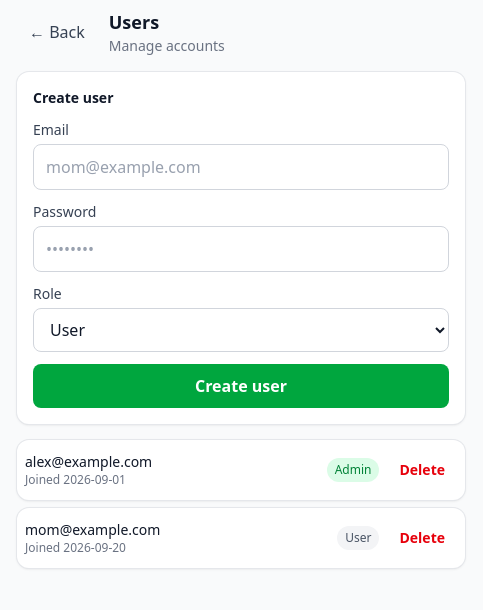
Test: UsersPage (docs/TASKS.md → T32) › deletes a user after confirmation: DELETE, payload refetch, row disappears
expect the list item with test id "user-row-u2" is shown: met, box [17, 508, 465, 568]
// Two-step confirm: the first click only asks.
Click the button with aria-label "Delete mom@example.com": (422, 538) [388, 516, 457, 560]
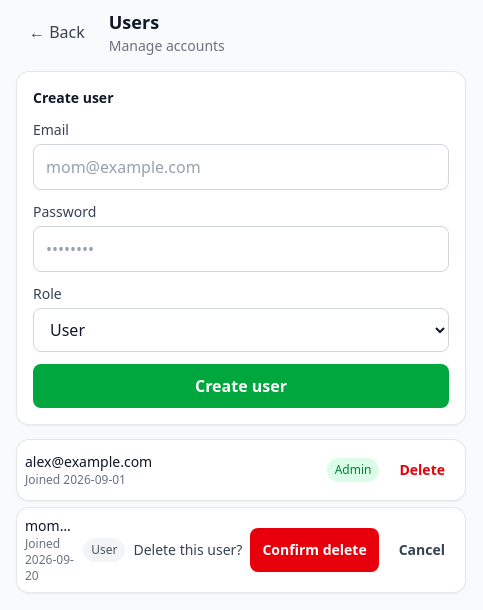
Click the button "Confirm delete": (315, 550) [250, 528, 379, 572]
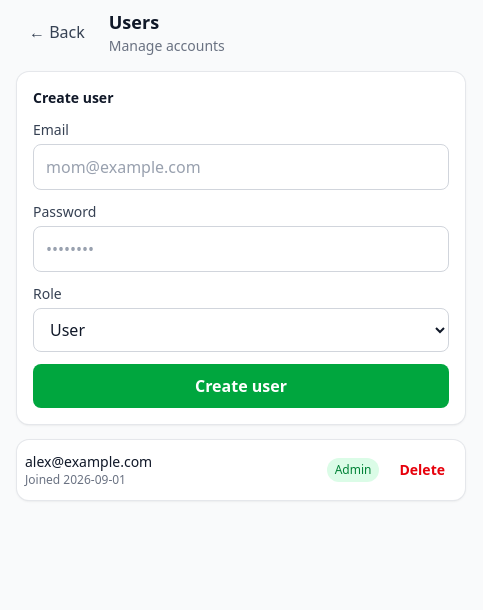
expect the list item with test id "user-row-u2" is gone: met
